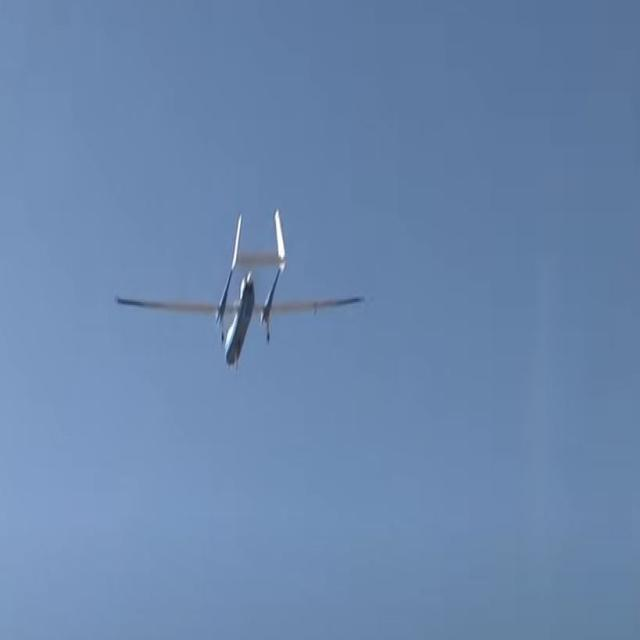iha: (112, 207, 365, 376)
